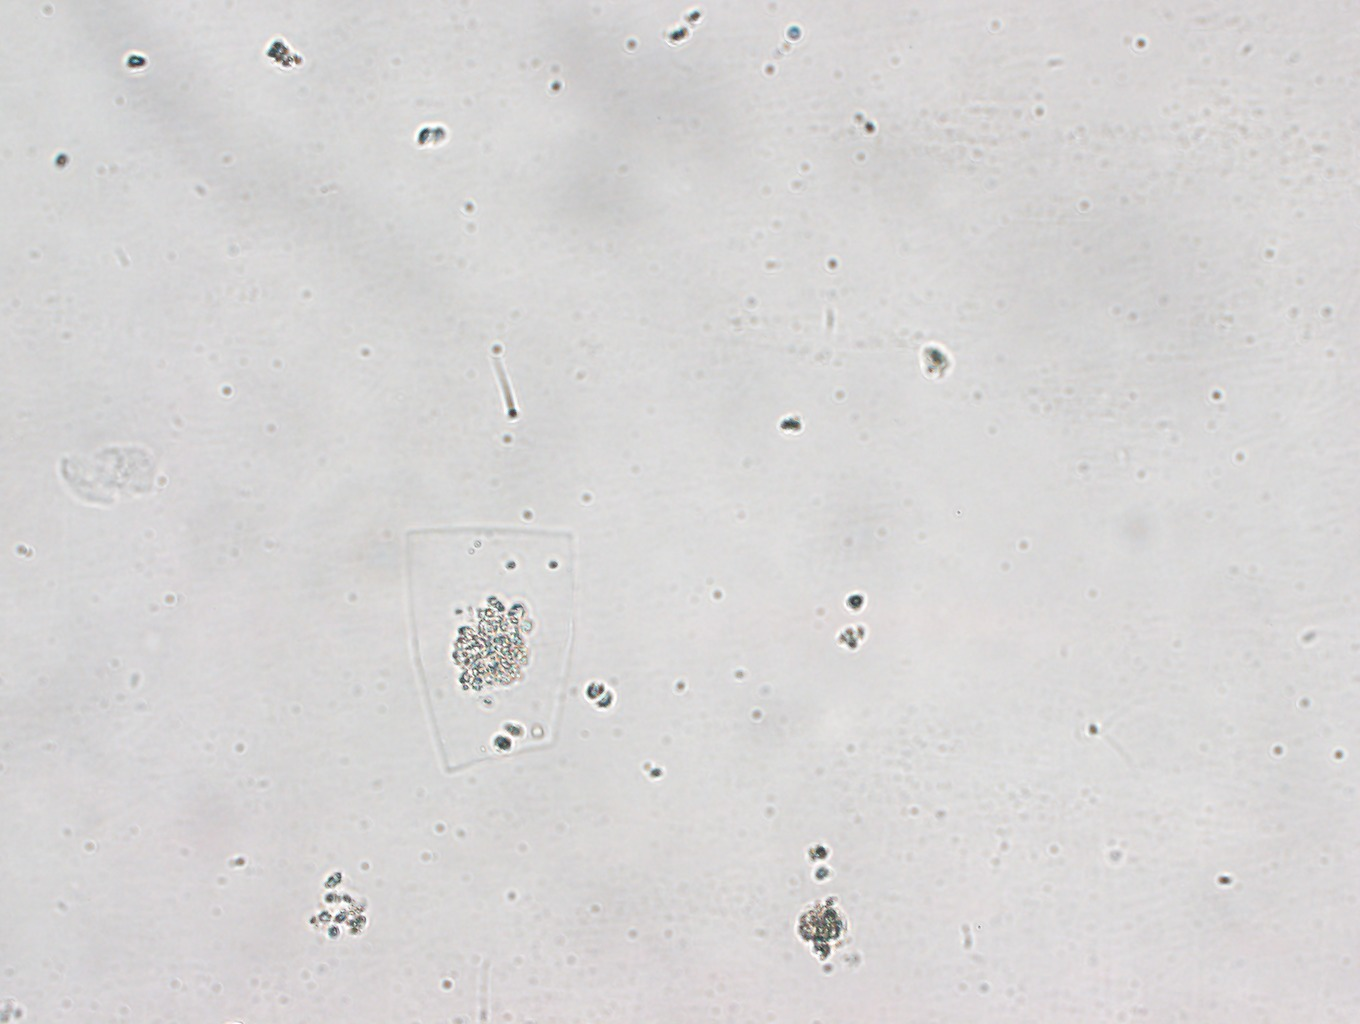helicotheca: (391, 520, 587, 776)
